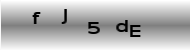5: (86, 20, 101, 35)
E: (129, 24, 143, 39)
J: (59, 8, 68, 25)
d: (114, 18, 128, 33)
f: (31, 11, 42, 26)
